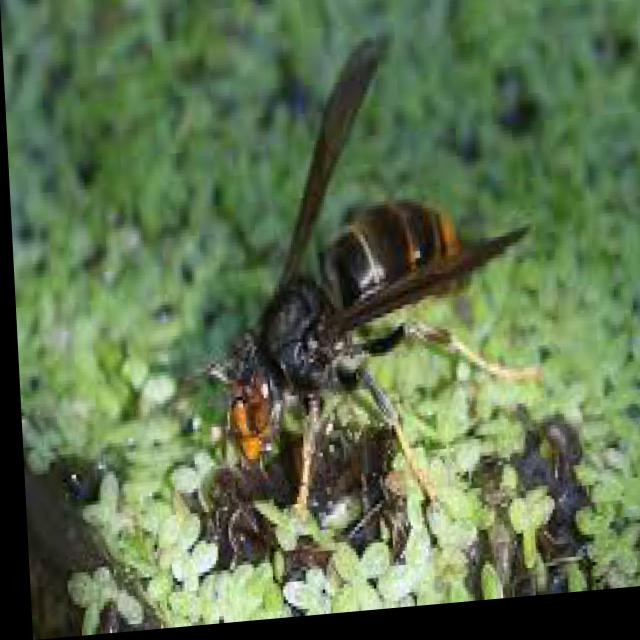Vespa Velutina: (165, 14, 553, 552)
